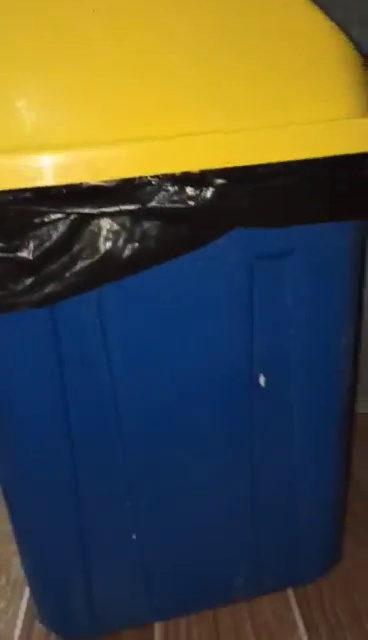garbagebin: (1, 1, 368, 640)
